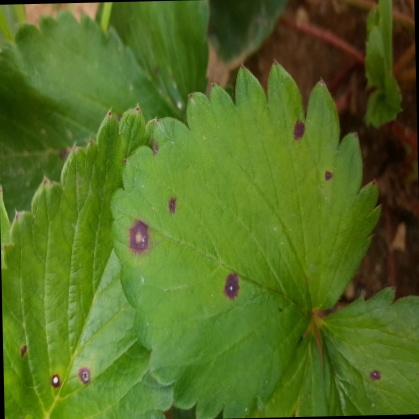Leaf_Spot: (109, 59, 384, 418), (0, 100, 173, 418), (0, 6, 174, 219), (102, 0, 216, 126), (315, 290, 418, 418)
